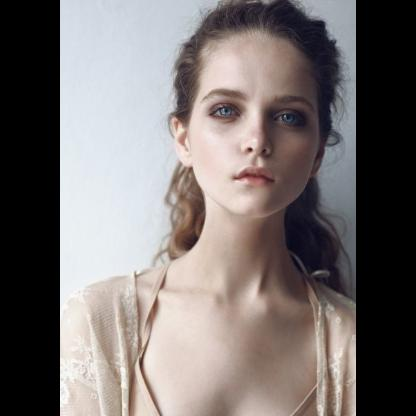Female: (172, 31, 326, 215)
